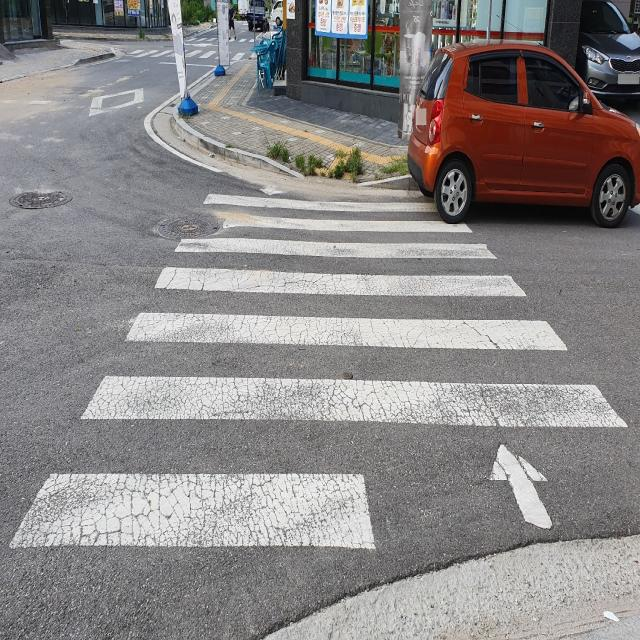횡단보도: (7, 190, 634, 563)
